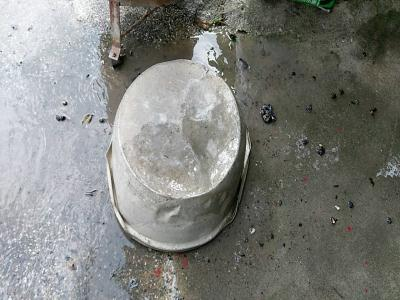bucket: (104, 56, 254, 255)
